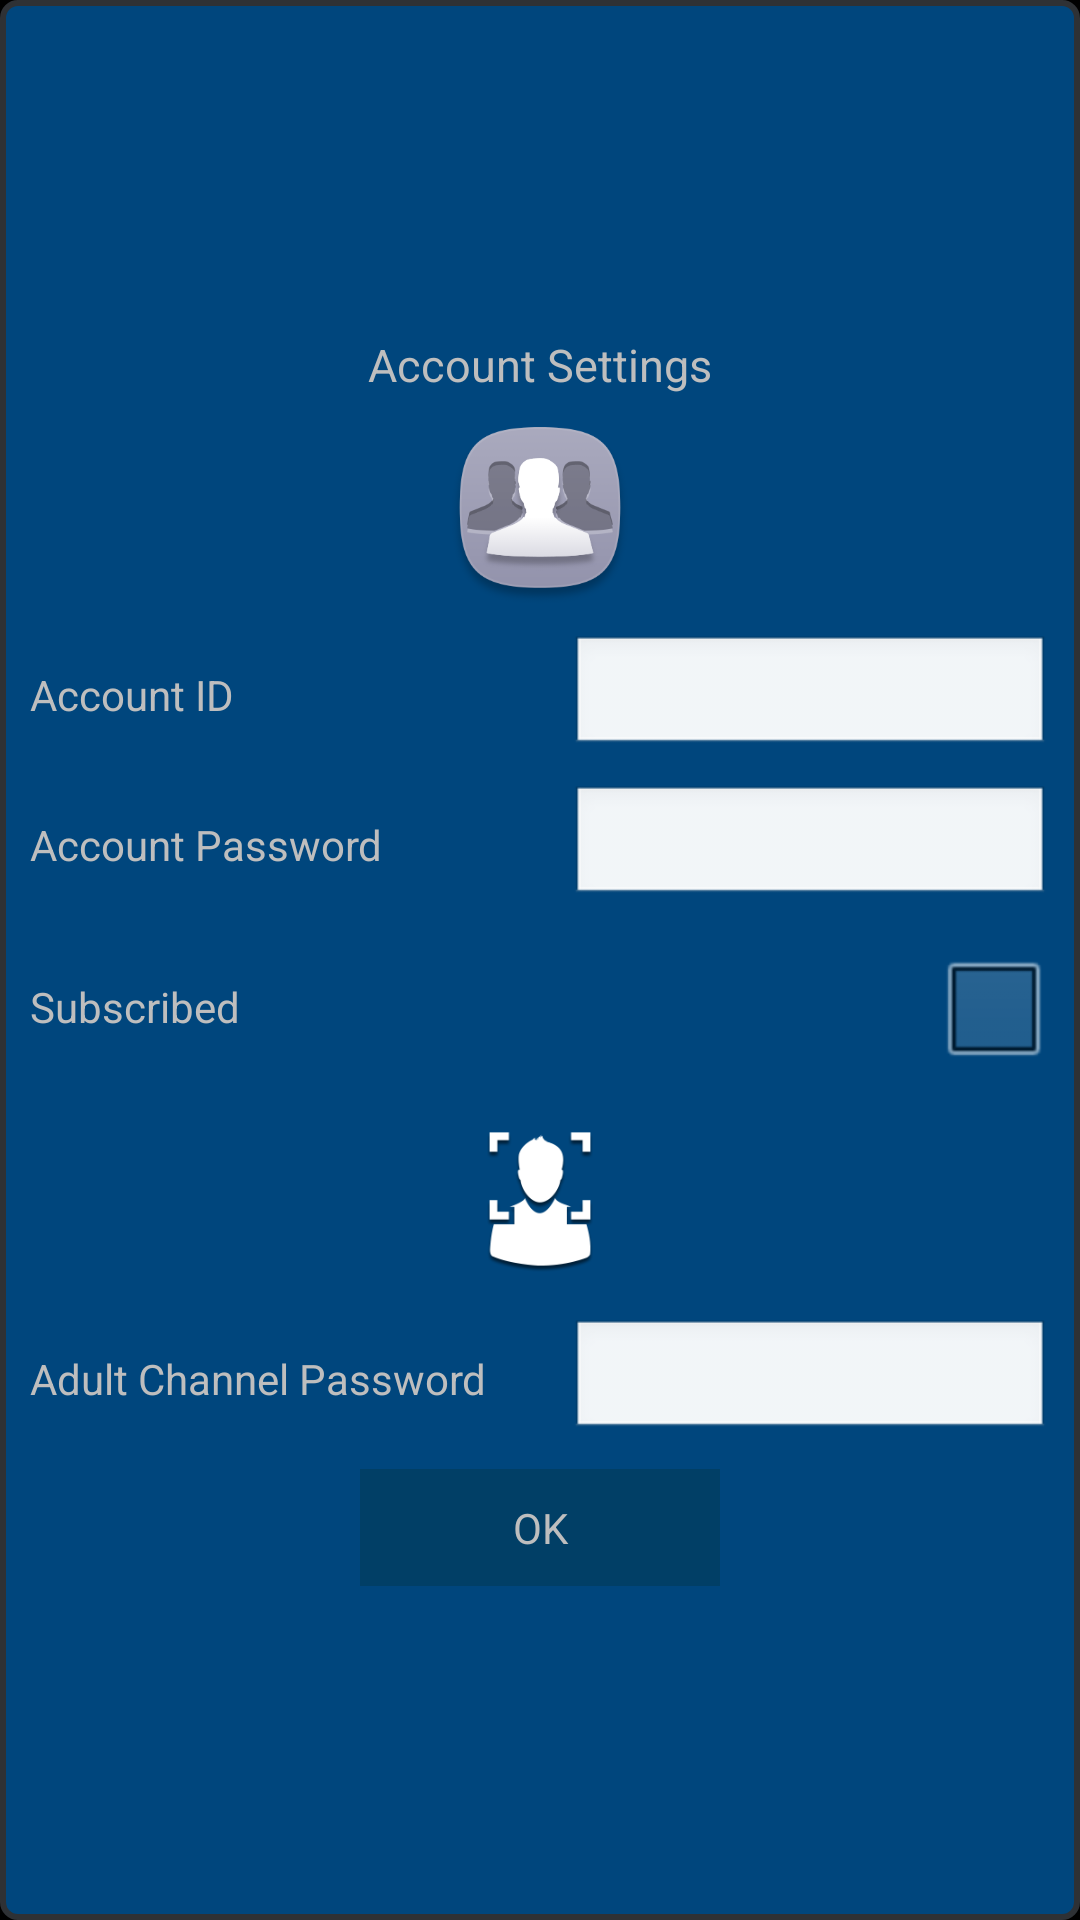

Point at icon controls on the screen. Image size 1080 x 1920, points as [x,y].
system users: [540,509]
user: [540,1201]
